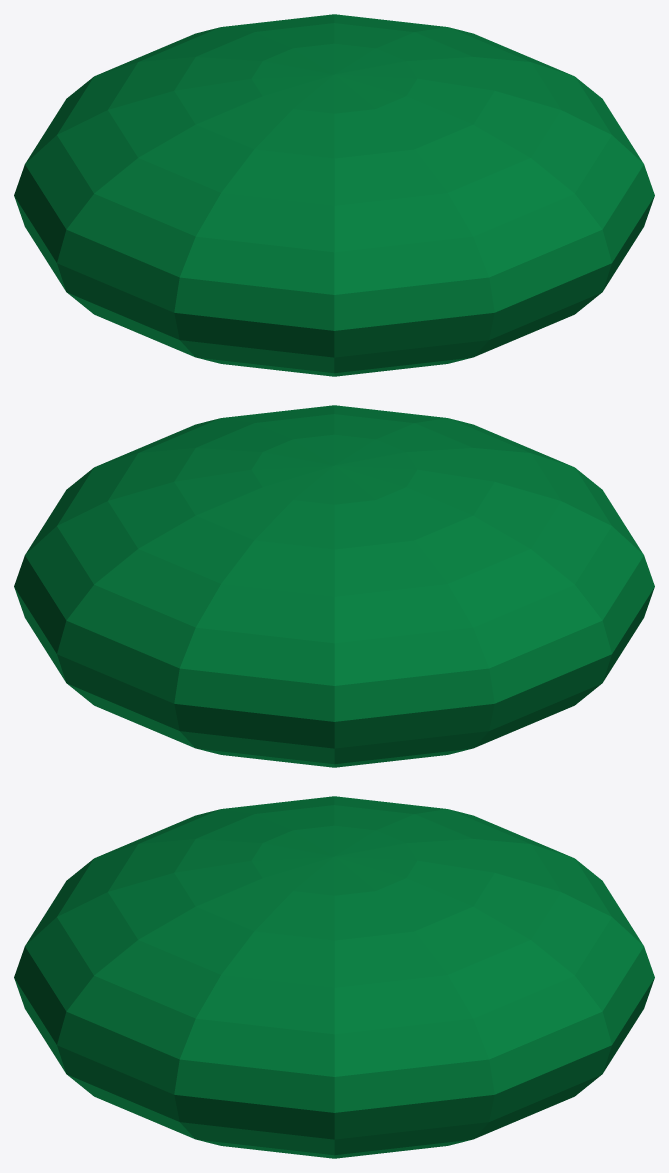
The model's file is Logic_B_Ball_07.fbx.
The picture shows the model from 3 angles, top to bottom: view 1: azimuth 30°, elevation 25°; view 2: azimuth 150°, elevation 25°; view 3: azimuth 270°, elevation 25°; orthographic projection.
Visible parts, largest first — view 1: Logic_B_Ball_07; view 2: Logic_B_Ball_07; view 3: Logic_B_Ball_07.
Part boxes in pixels (x1,y1,x2,y2): Logic_B_Ball_07: (14, 14, 654, 376); Logic_B_Ball_07: (14, 405, 654, 767); Logic_B_Ball_07: (14, 796, 654, 1158).
Bounding box in the file's own units: 7.93 × 3.3 × 7.93.
